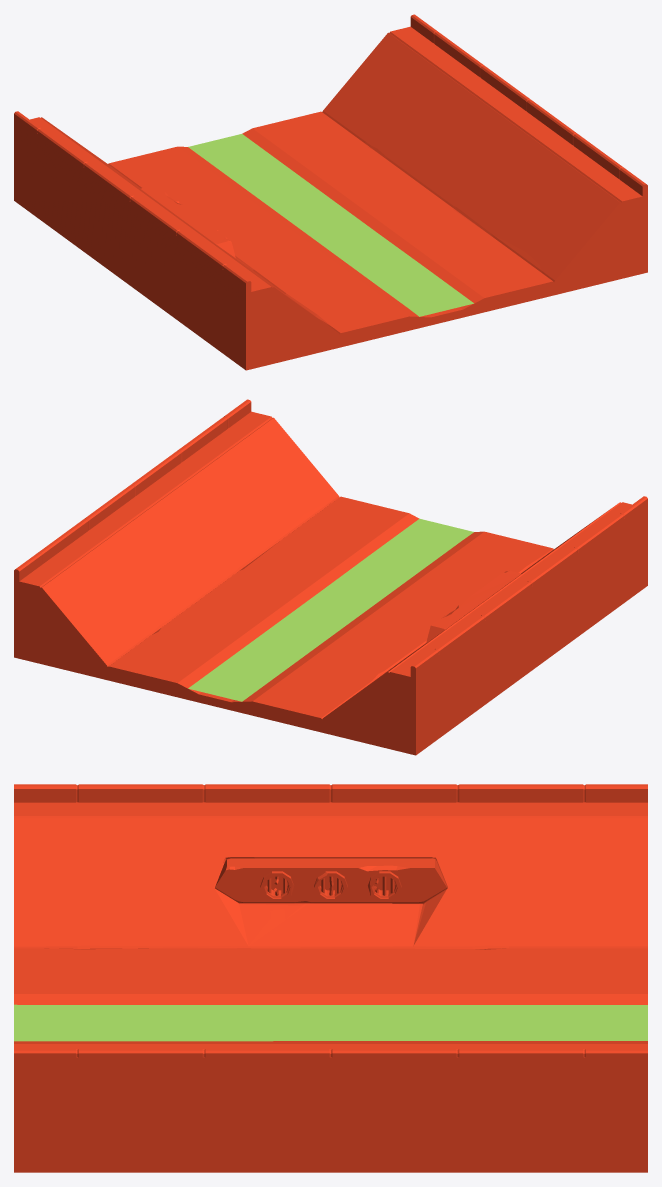
The model's file is SM_Canal_Straight_B_City.fbx.
3 views of the same model, one above another, from view 1: azimuth 30°, elevation 25°; view 2: azimuth 150°, elevation 25°; view 3: azimuth 270°, elevation 25° (orthographic). The views are drawn at different scales.
Visible parts, largest first — view 1: SM_Canal_Straight_B_City; view 2: SM_Canal_Straight_B_City; view 3: SM_Canal_Straight_B_City.
Boxes of the visible parts, left/top/right/bottom form: SM_Canal_Straight_B_City: left=14, top=14, right=647, bottom=370; SM_Canal_Straight_B_City: left=14, top=399, right=647, bottom=755; SM_Canal_Straight_B_City: left=14, top=784, right=647, bottom=1172.
Size of the model in its own units: 30 by 6.32 by 30.
